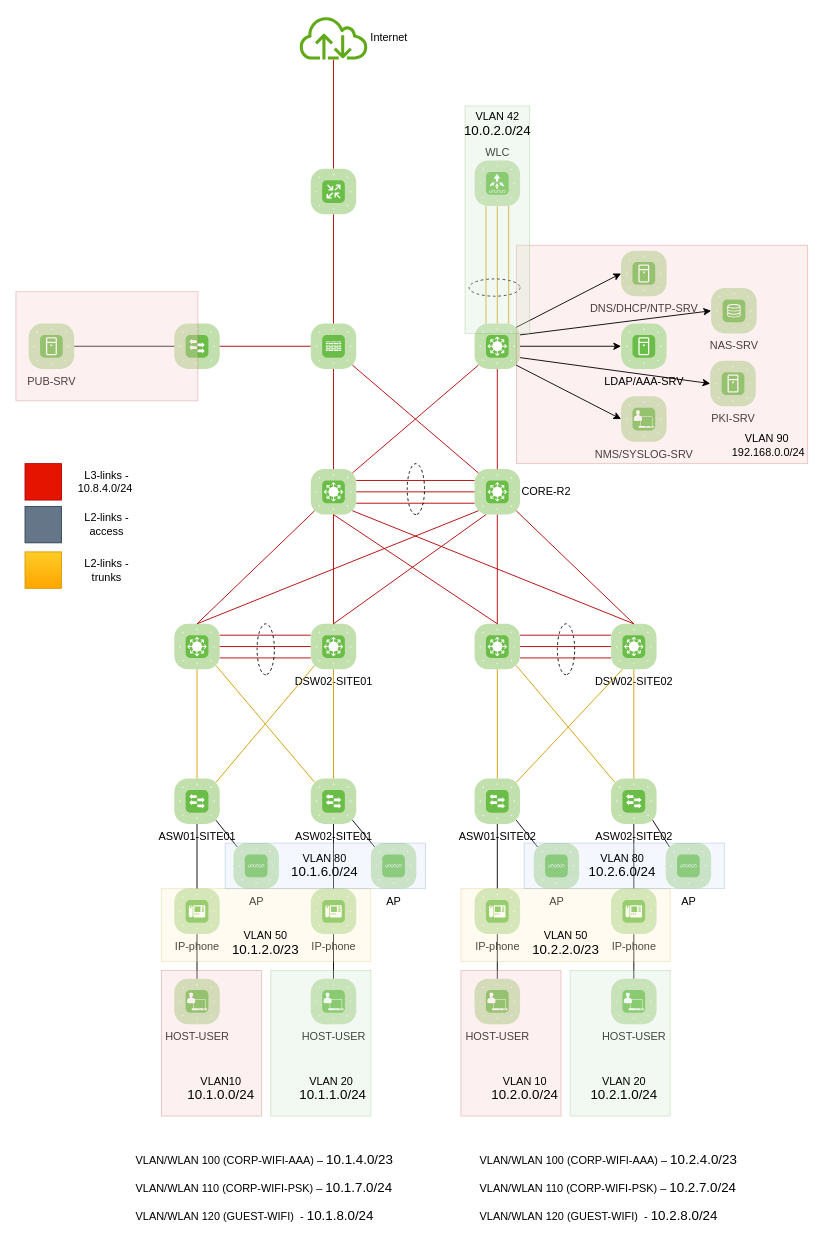
Image size: 824x1252. Some labels were removed from this diagram. Each missing label, with the box of its shape:
CORE-R1: (310, 468, 356, 515)
DMZ-SW: (173, 323, 220, 369)
DSW01-SITE01: (173, 623, 220, 669)
DSW01-SITE02: (474, 623, 520, 669)
FW: (310, 323, 356, 369)
ISP: (310, 168, 356, 214)
SRVRM-SW1: (474, 323, 520, 369)
VLAN 38 10.0.1.0/24: (15, 291, 198, 401)
